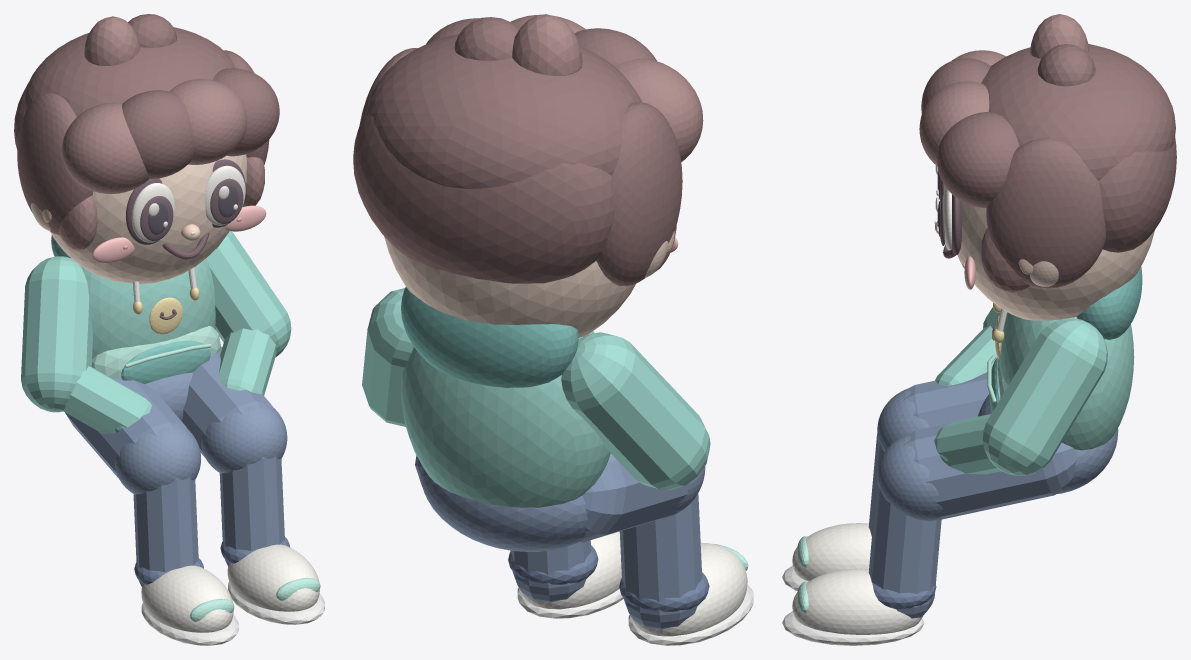
The model's file is cute_seated_avatar.glb.
The picture shows the model from 3 angles, left to right: view 1: azimuth 30°, elevation 25°; view 2: azimuth 150°, elevation 25°; view 3: azimuth 270°, elevation 25°; orthographic projection. The views are drawn at different scales.
Visible parts, largest first — view 1: LeftUpperSleeve, HairMain, Head, Torso, LeftHairSide, HairBang0, RightUpperSleeve, RightShin, LeftShin, HairBang1, HairBang2, RightSneaker (+28 smaller); view 2: HairMain, HairUpperBack, Torso, LeftUpperSleeve, LeftHairSide, Head, HoodBack, LeftShin, Hips, RightUpperSleeve, LeftThigh, HairBang0 (+10 smaller); view 3: HairMain, RightHairSide, RightUpperSleeve, Head, RightThigh, Torso, HairUpperBack, RightShin, HairBang3, RightSneaker, RightKnee, LeftSneaker (+14 smaller).
Part boxes in pixels (x1,y1,x2,y2): LeftUpperSleeve: [21, 256, 92, 412]; HairMain: [24, 27, 235, 116]; Head: [50, 154, 246, 283]; Torso: [80, 258, 215, 358]; LeftHairSide: [17, 93, 93, 234]; HairBang0: [62, 102, 149, 194]; RightUpperSleeve: [206, 231, 291, 357]; RightShin: [219, 456, 284, 566]; LeftShin: [133, 477, 198, 586]; HairBang1: [122, 90, 193, 178]; HairBang2: [169, 79, 247, 164]; RightSneaker: [227, 544, 319, 611]; HairMain: [366, 34, 642, 188]; HairUpperBack: [353, 111, 614, 283]; Torso: [401, 331, 610, 507]; LeftUpperSleeve: [561, 332, 710, 490]; LeftHairSide: [596, 102, 682, 286]; Head: [384, 237, 635, 337]; HoodBack: [401, 287, 578, 387]; LeftShin: [619, 493, 702, 629]; Hips: [420, 464, 587, 551]; RightUpperSleeve: [362, 288, 413, 426]; LeftThigh: [580, 453, 688, 542]; HairBang0: [614, 58, 703, 161]; HairMain: [981, 44, 1175, 180]; RightHairSide: [986, 138, 1106, 288]; RightUpperSleeve: [983, 318, 1107, 475]; Head: [957, 201, 1154, 320]; RightThigh: [904, 423, 1076, 520]; Torso: [999, 312, 1134, 450]; HairUpperBack: [1099, 136, 1176, 252]; RightShin: [868, 479, 941, 618]; HairBang3: [937, 112, 1019, 207]; RightSneaker: [792, 568, 922, 634]; RightKnee: [877, 435, 942, 521]; LeftSneaker: [792, 523, 871, 581].
Bounding box in the file's own units: 1.42 × 2.82 × 1.72.
